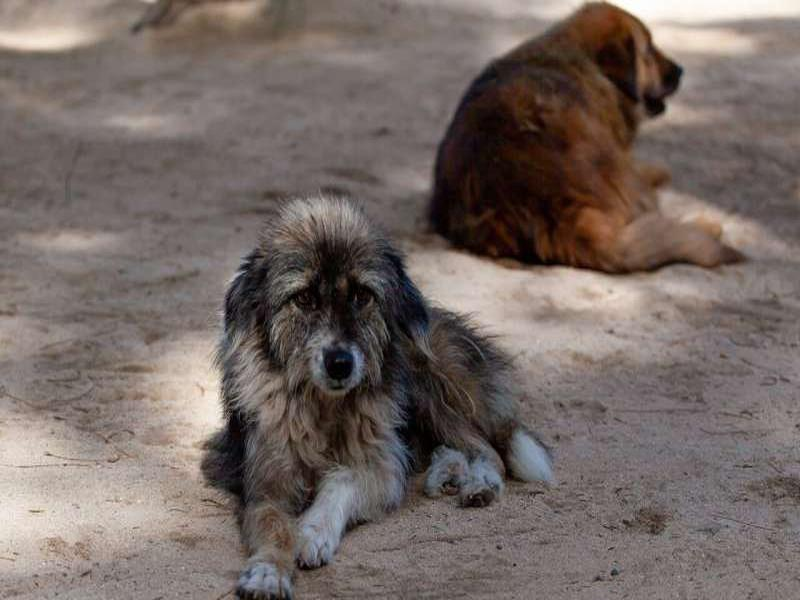dog: (209, 187, 557, 599), (434, 4, 748, 272)
